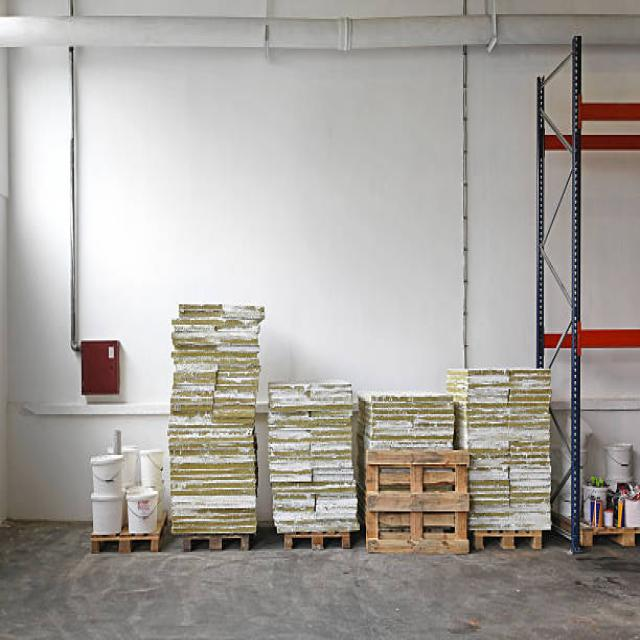Wooden-Pallets: (367, 451, 468, 552), (187, 530, 251, 559), (91, 536, 162, 558), (478, 530, 543, 554), (283, 535, 354, 553)
